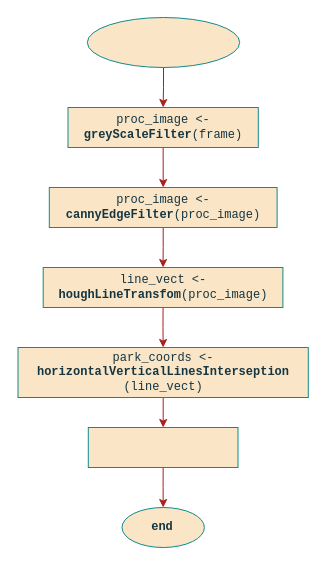
Image size: 326x565. Some labels were removed from this diagram. Here are the shapes that lost their labels. From the top down, the centre of each, then its label:
(x=163, y=42): start: searchParkingSpots
(x=162, y=447): store park_coords
